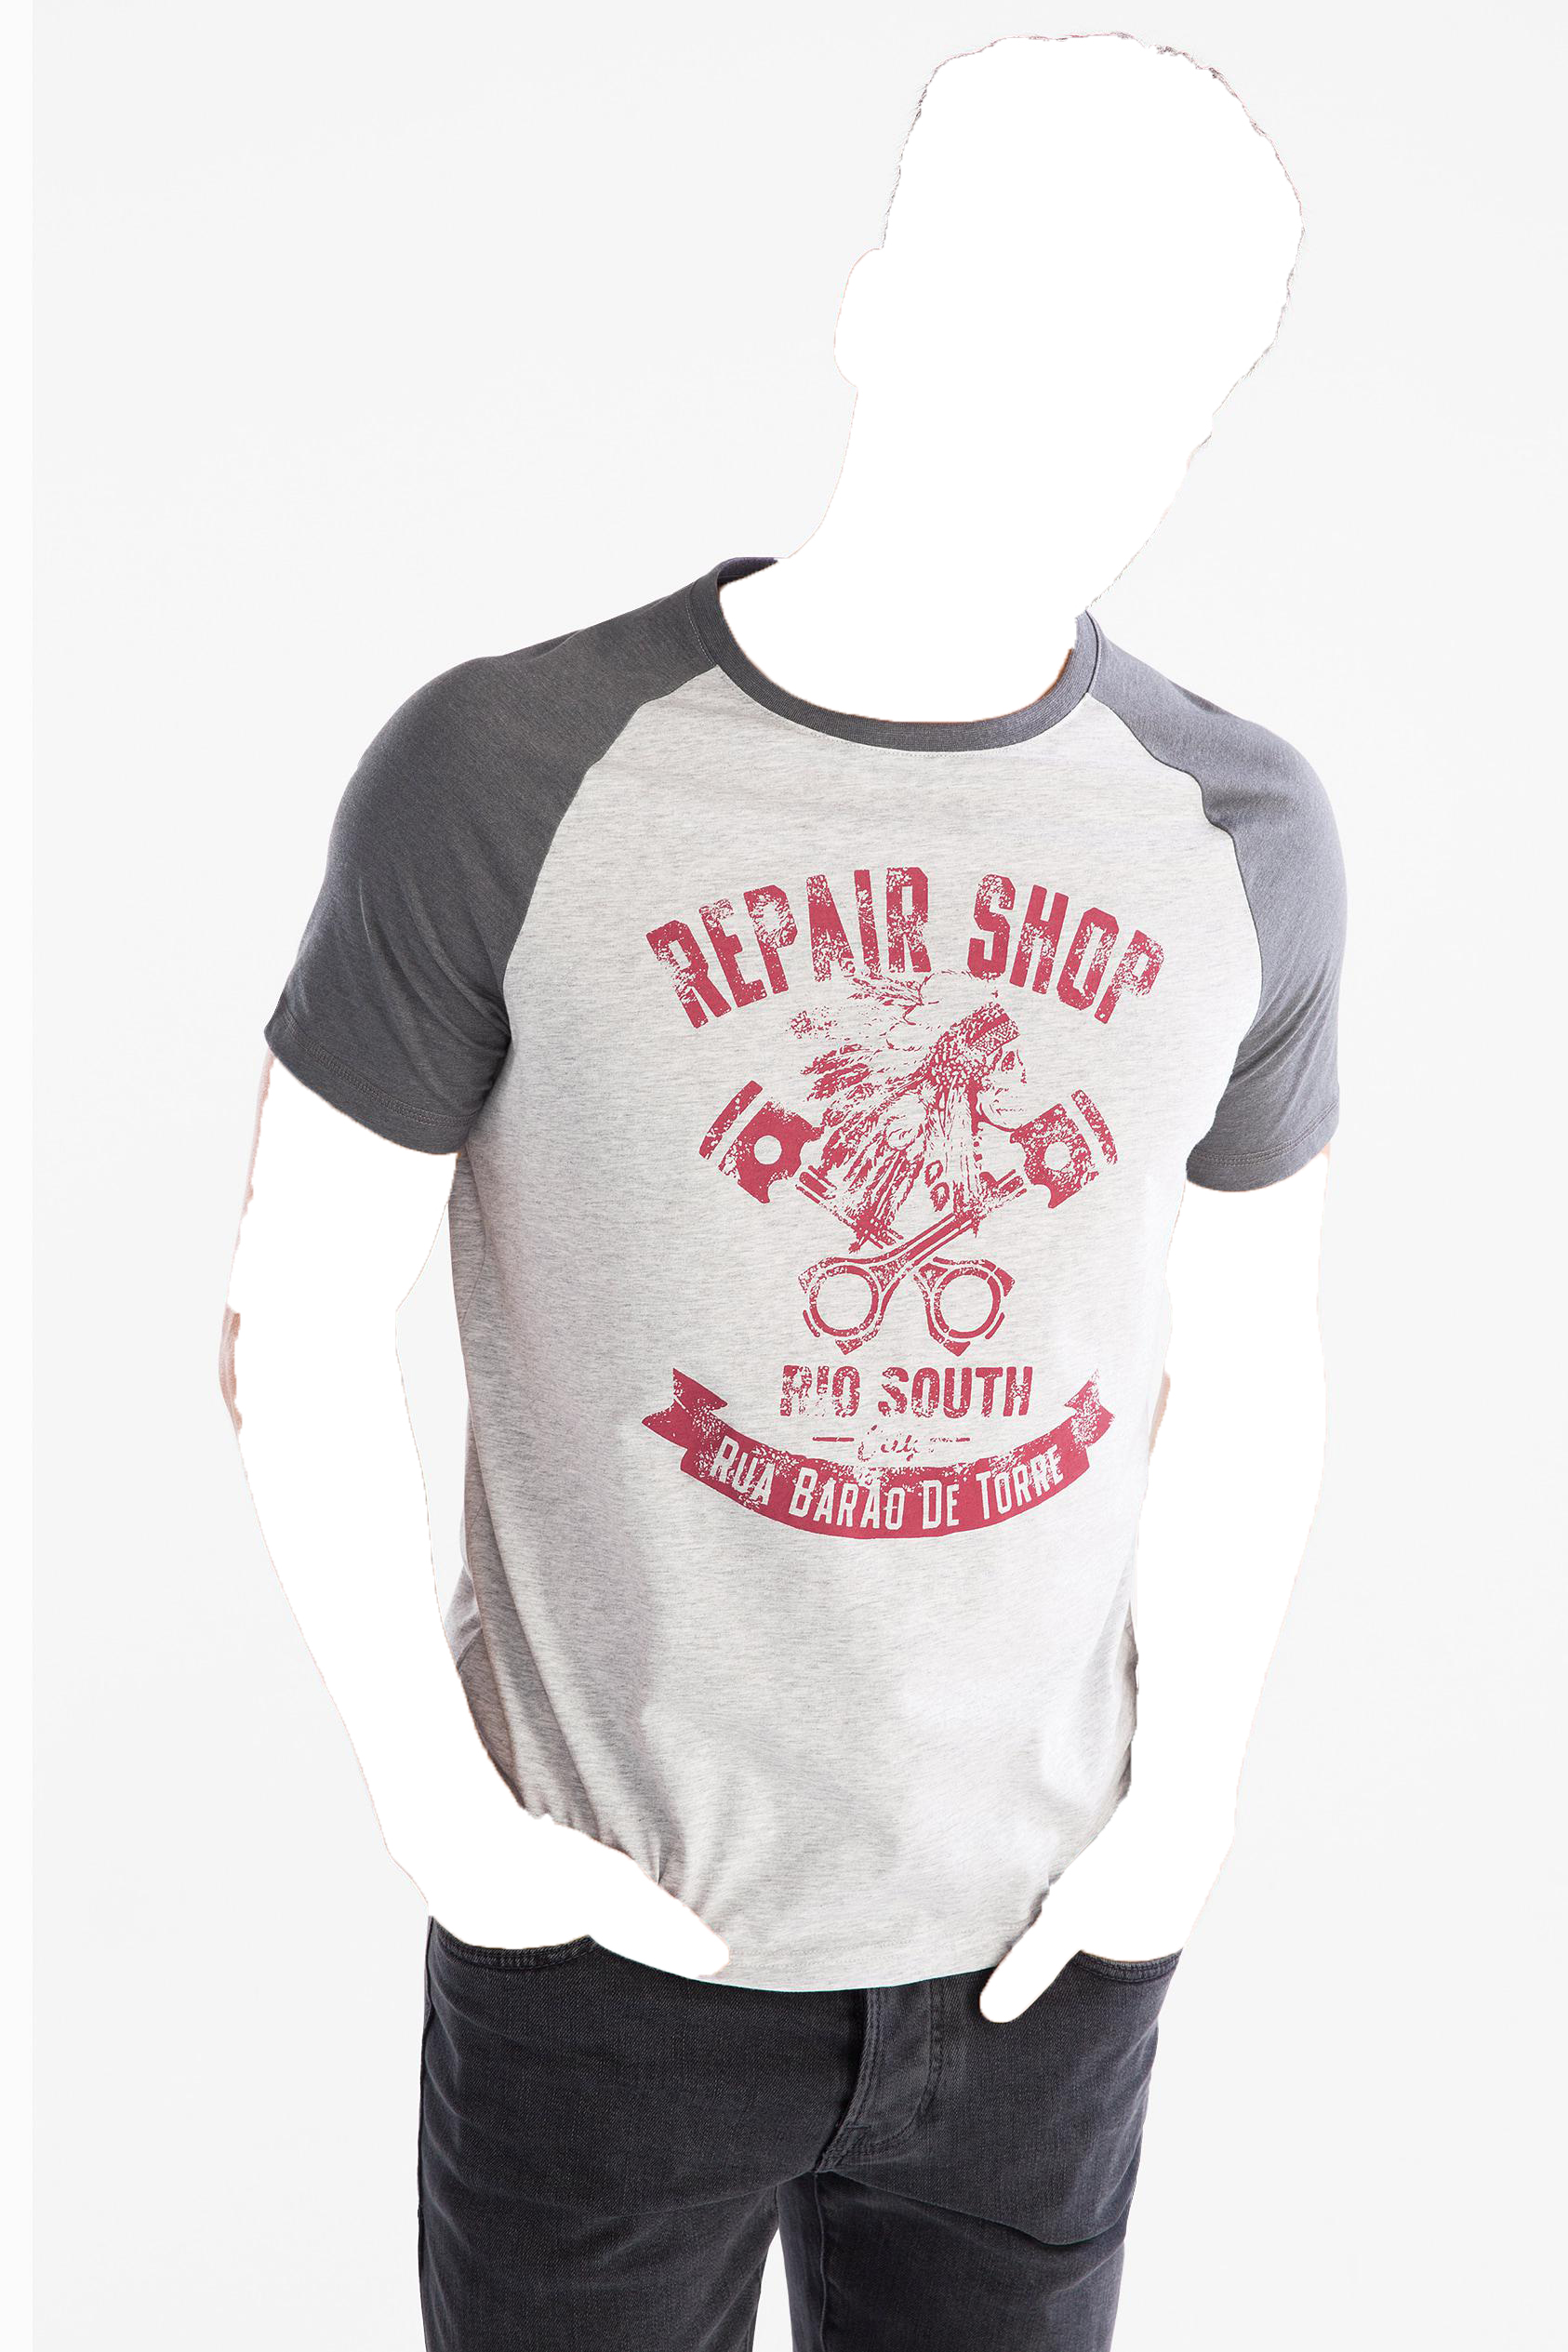teeshirt: (259, 560, 1396, 2033)
